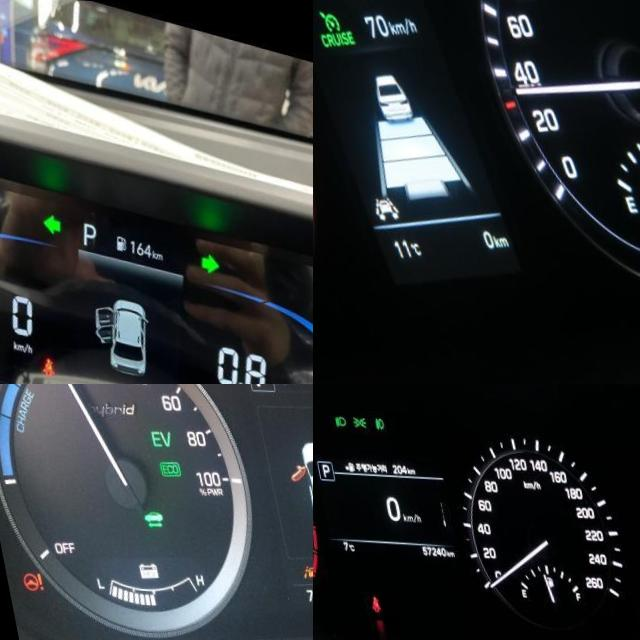FrontFogLight: (365, 412, 375, 426)
LaneCenteringOff: (352, 190, 384, 220)
Low beam: (325, 411, 338, 424)
SideLamp: (342, 411, 358, 424)
